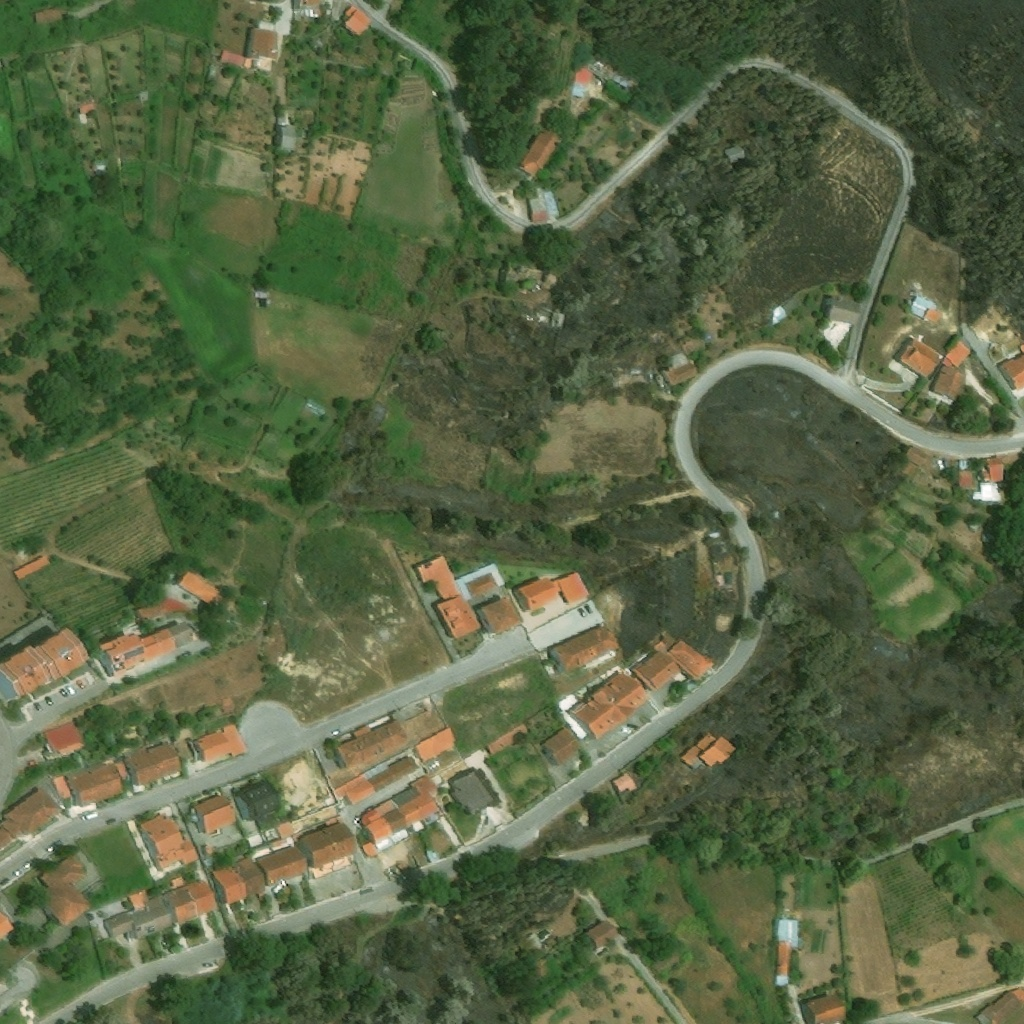0 no-damage: (0, 625, 92, 705), (356, 773, 439, 858), (102, 879, 217, 940), (412, 555, 481, 642), (570, 671, 650, 739), (99, 621, 193, 675), (897, 336, 973, 401), (632, 635, 716, 693), (36, 851, 92, 927), (0, 788, 62, 851), (549, 620, 622, 673), (336, 718, 410, 769), (344, 756, 419, 805), (137, 813, 199, 869), (512, 570, 590, 612), (218, 27, 279, 72), (210, 858, 266, 906), (297, 822, 355, 868), (124, 742, 182, 787), (587, 52, 643, 96), (518, 125, 565, 177), (66, 764, 121, 808), (680, 729, 739, 770), (233, 781, 283, 829), (254, 845, 308, 889), (448, 769, 494, 816), (193, 722, 247, 762), (184, 795, 238, 834), (972, 984, 1023, 1023), (475, 595, 524, 635), (774, 918, 799, 986), (540, 727, 582, 766), (413, 727, 457, 761), (660, 348, 698, 387), (176, 569, 218, 604), (971, 462, 1005, 501), (801, 993, 845, 1023), (44, 722, 82, 755), (998, 345, 1023, 390), (583, 919, 618, 949), (528, 189, 560, 221), (11, 555, 47, 582), (910, 293, 942, 323), (827, 298, 862, 325), (344, 5, 372, 36), (465, 571, 498, 597), (571, 68, 593, 99), (773, 298, 798, 324), (611, 770, 638, 793), (274, 123, 297, 149), (484, 733, 511, 755), (723, 140, 747, 164), (903, 444, 927, 466), (33, 7, 63, 24), (50, 774, 70, 799), (959, 459, 975, 489), (539, 310, 567, 325), (78, 103, 94, 114), (276, 114, 290, 125), (137, 91, 148, 103)
4 un-classified: (0, 959, 40, 1013), (513, 956, 555, 985), (298, 396, 327, 421), (0, 912, 13, 937), (291, 0, 320, 9)
